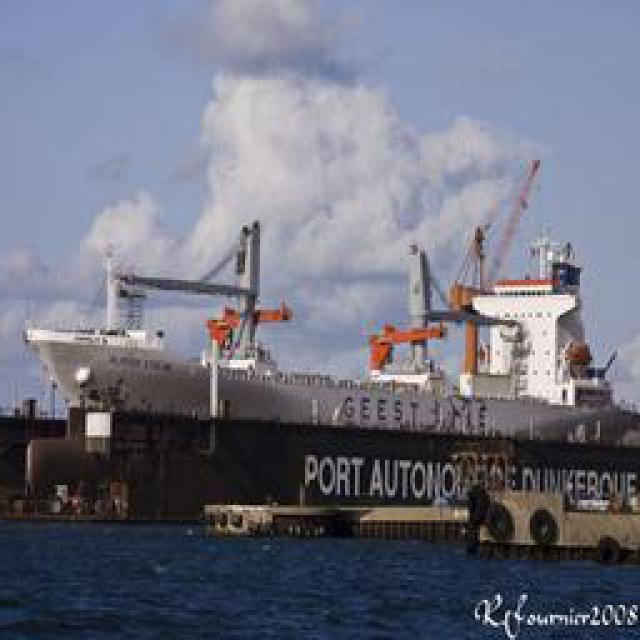Ship: (16, 215, 636, 523)
